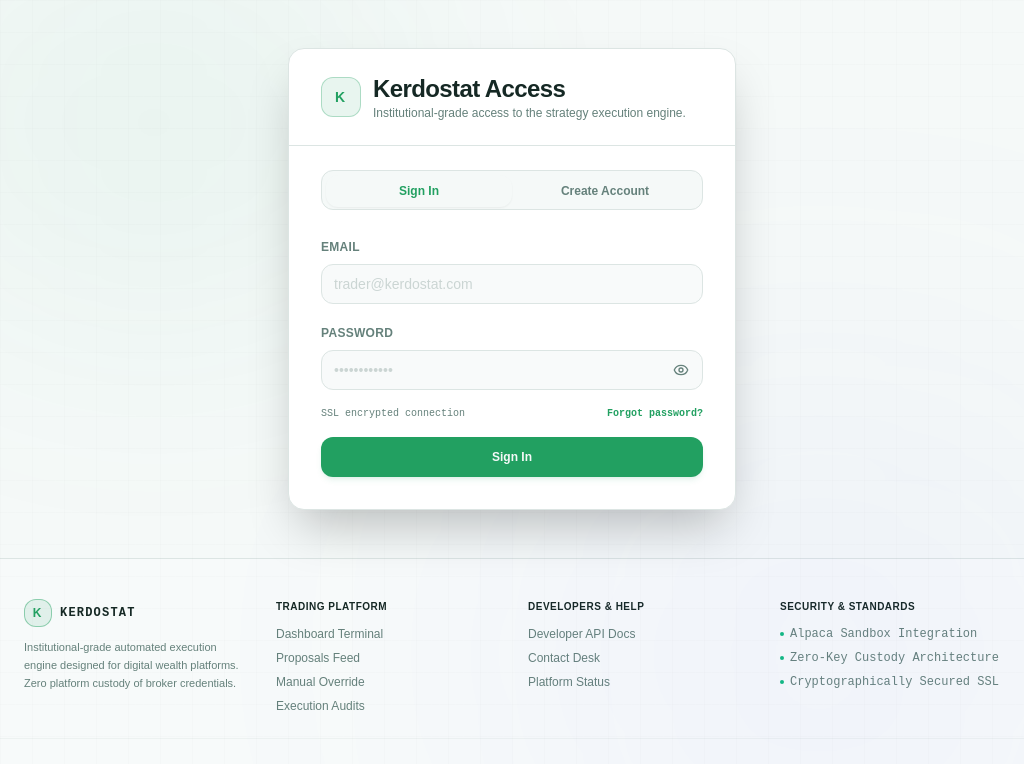
Test: AuthCard Component Form Validation › should show create account tab and validate mismatched passwords
Note: Click on Create Account tab using user-event
Click the tab "Create Account": (605, 191) [512, 175, 698, 207]
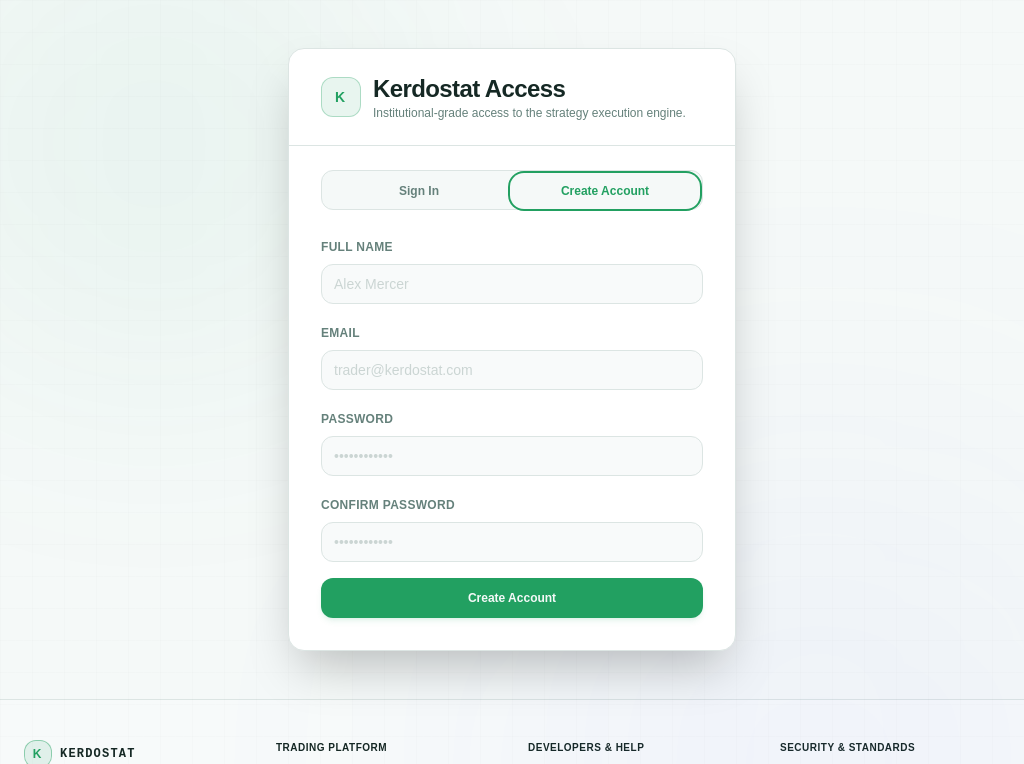
Now the field labelled "Full Name" is shown
Now the password field labelled "Confirm Password" is shown, box [321, 522, 703, 562]
Note: Fill in inputs with mismatched passwords
In the field labelled "Full Name": (512, 284) [321, 264, 703, 304], type "Jane Doe"
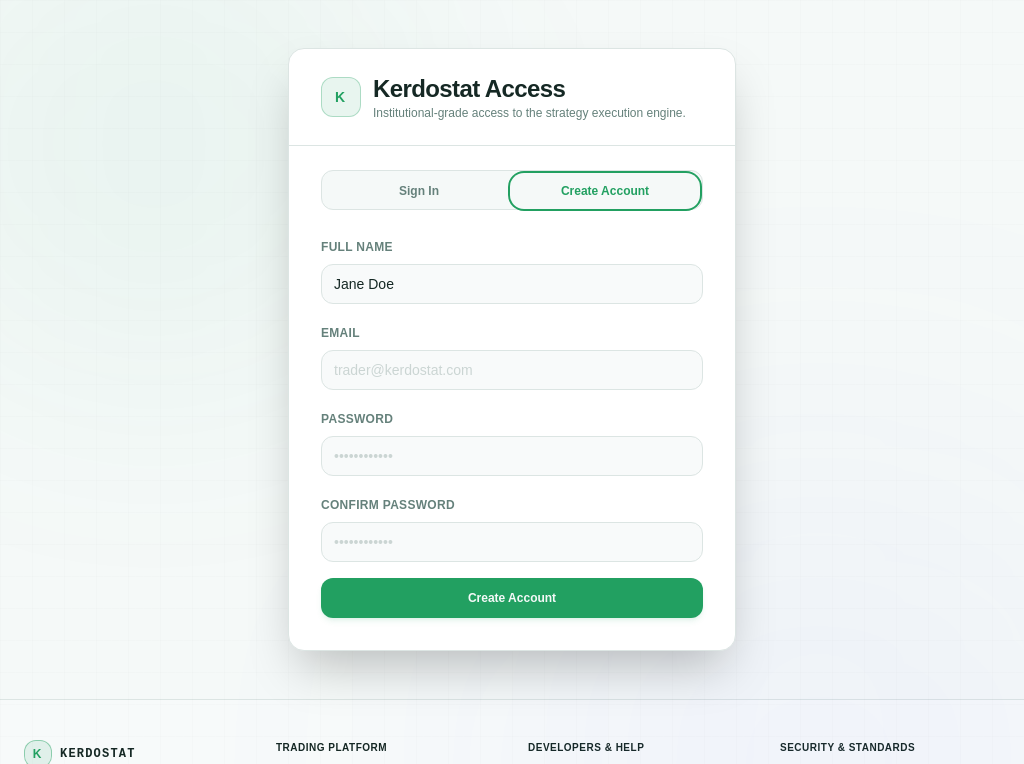
In the field labelled "Email": (512, 370) [321, 350, 703, 390], type "jane@kerdostat.com"
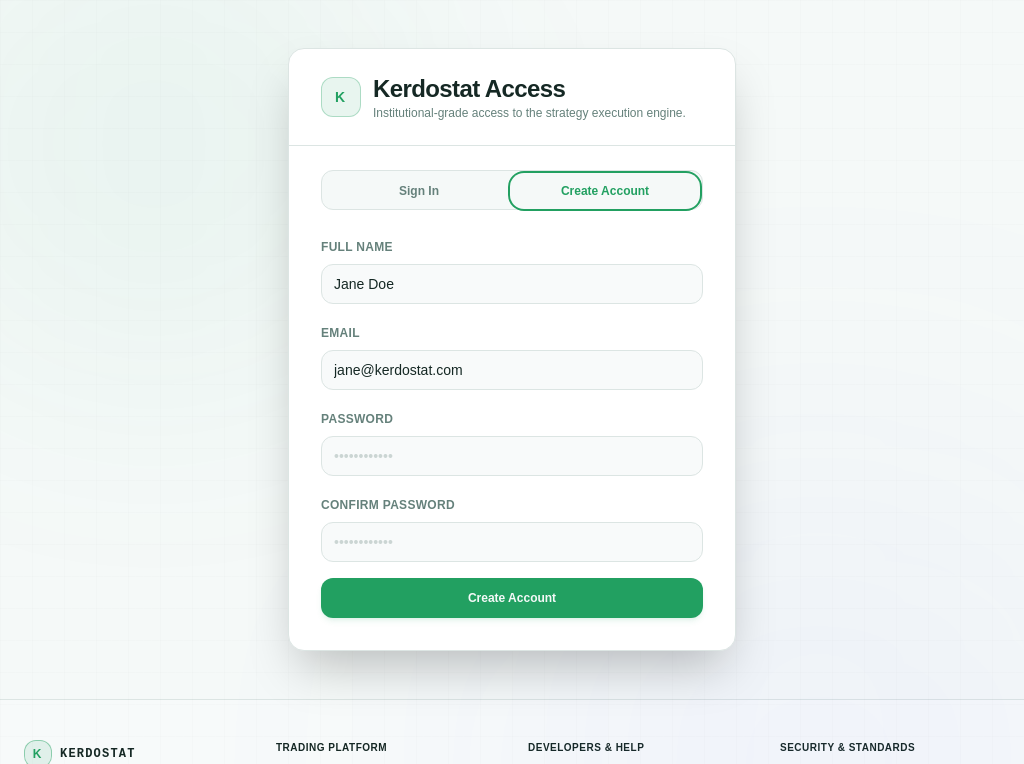
In the password field labelled "Password": (512, 456) [321, 436, 703, 476], type "password123"
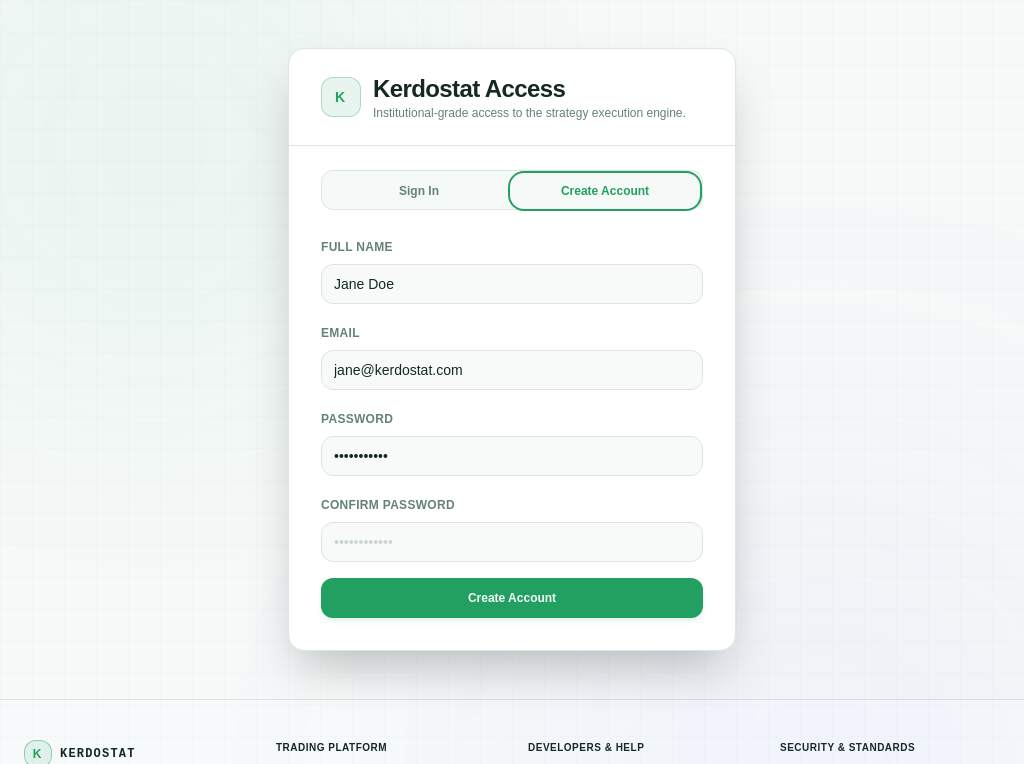
In the password field labelled "Confirm Password": (512, 542) [321, 522, 703, 562], type "different_password"
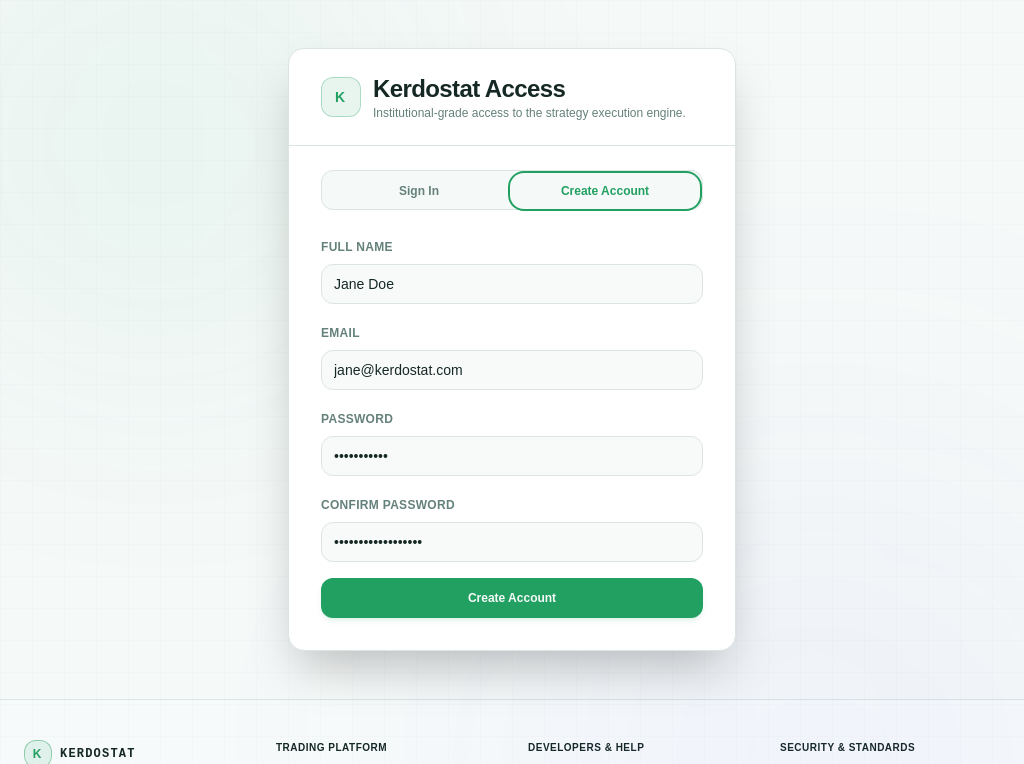
Click the button "Create Account": (512, 598) [321, 578, 703, 618]
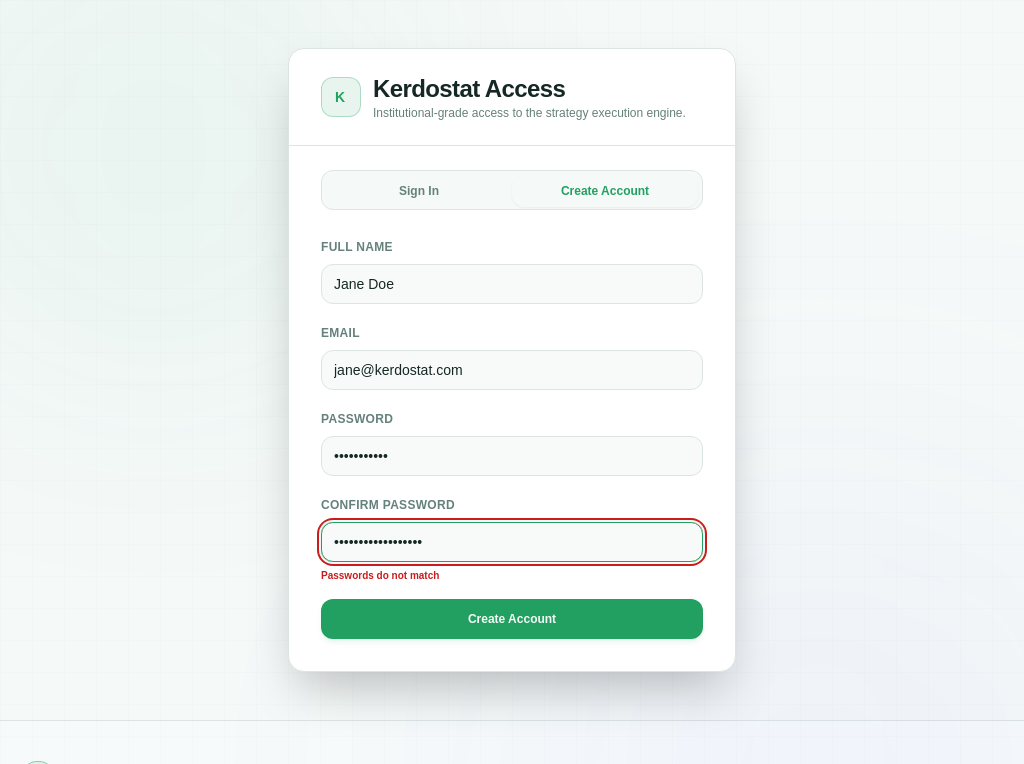
Now the text "Passwords do not match" is shown, box [321, 570, 439, 581]
